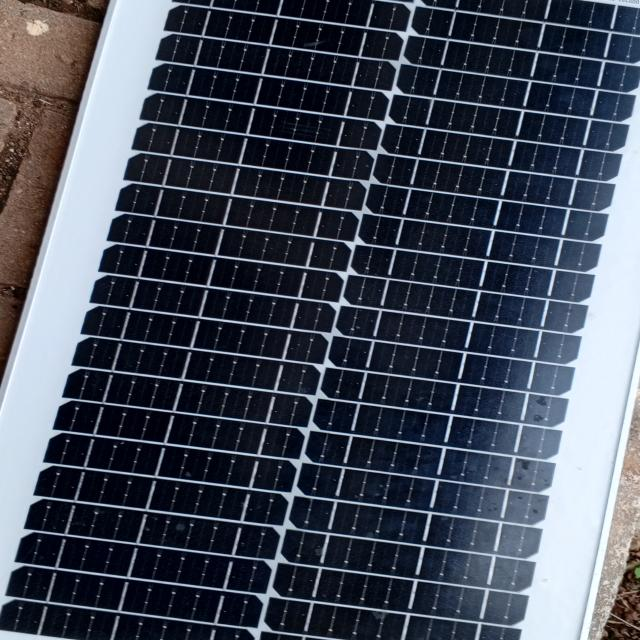Clean: (125, 0, 570, 640)
